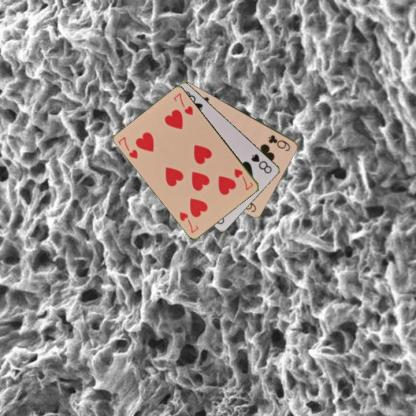6c: (266, 132, 292, 152)
7h: (116, 134, 139, 160), (232, 166, 254, 192)
8s: (249, 151, 274, 175)
